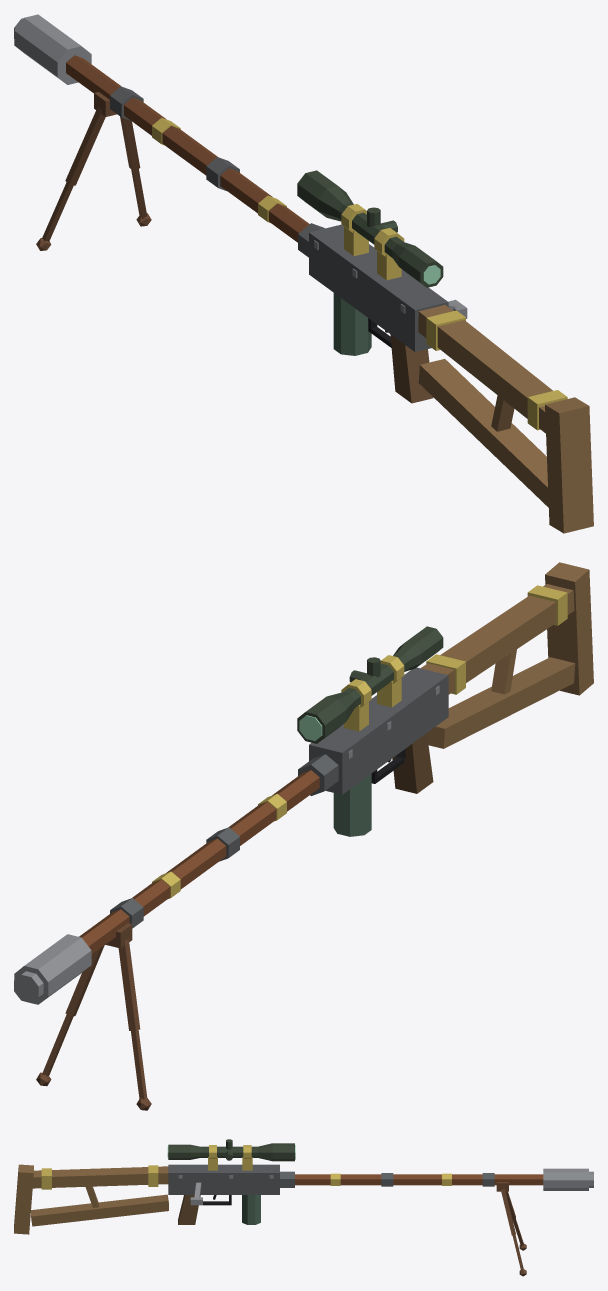
Rendered from Scrapper.glb.
The picture shows the model from 3 angles, top to bottom: view 1: azimuth 30°, elevation 25°; view 2: azimuth 150°, elevation 25°; view 3: azimuth 270°, elevation 25°; orthographic projection. The views are drawn at different scales.
Visible parts, largest first — view 1: Stock, Body, Barrel, Scope, Bipod, Muzzle, Accent, Magazine, Mount, Grip; view 2: Stock, Body, Barrel, Scope, Bipod, Muzzle, Accent, Magazine, Mount, Grip; view 3: Stock, Body, Barrel, Scope, Muzzle, Bipod, Accent, Magazine, Mount, Grip, Bolt.
Boxes of the visible parts, x1,y1,x2,y2 form: Stock: (418,305,593,533); Body: (110,86,448,351); Barrel: (66,55,309,242); Scope: (297,170,443,287); Bipod: (36,92,151,250); Muzzle: (14,14,91,84); Accent: (152,118,567,430); Magazine: (333,293,371,355); Mount: (341,204,404,280); Grip: (390,334,433,403); Stock: (421,562,593,748); Body: (110,667,448,928); Barrel: (79,770,319,954); Scope: (297,626,443,743); Bipod: (36,923,151,1110); Muzzle: (14,934,91,1004); Accent: (152,585,567,898); Magazine: (333,774,371,836); Mount: (341,655,404,731); Grip: (392,733,433,793); Stock: (14,1164,168,1234); Body: (168,1164,494,1194); Barrel: (295,1174,543,1185); Scope: (168,1139,294,1161); Muzzle: (543,1168,593,1190); Bipod: (496,1182,526,1276); Accent: (41,1165,451,1189); Magazine: (242,1195,260,1224); Mount: (208,1145,252,1170); Grip: (178,1195,200,1224); Bolt: (178,1175,273,1205).
Bounding box in the file's own units: 0.674 × 1.33 × 5.72.
